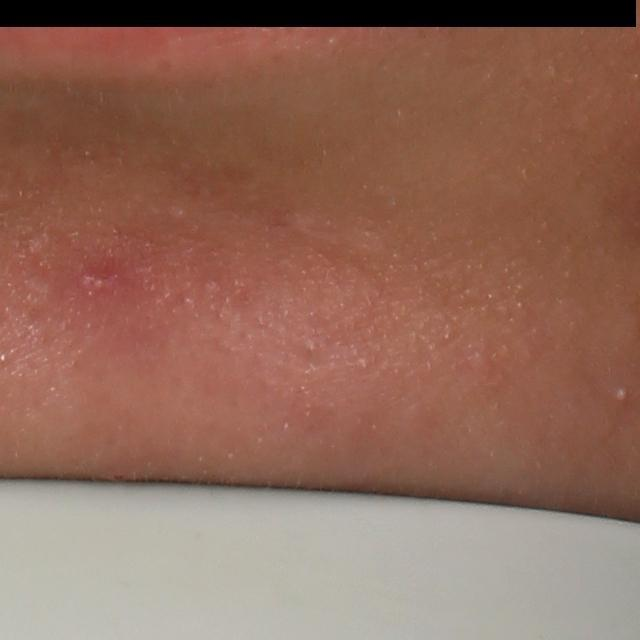comedo: (615, 385, 629, 404)
papule: (82, 263, 112, 296)
